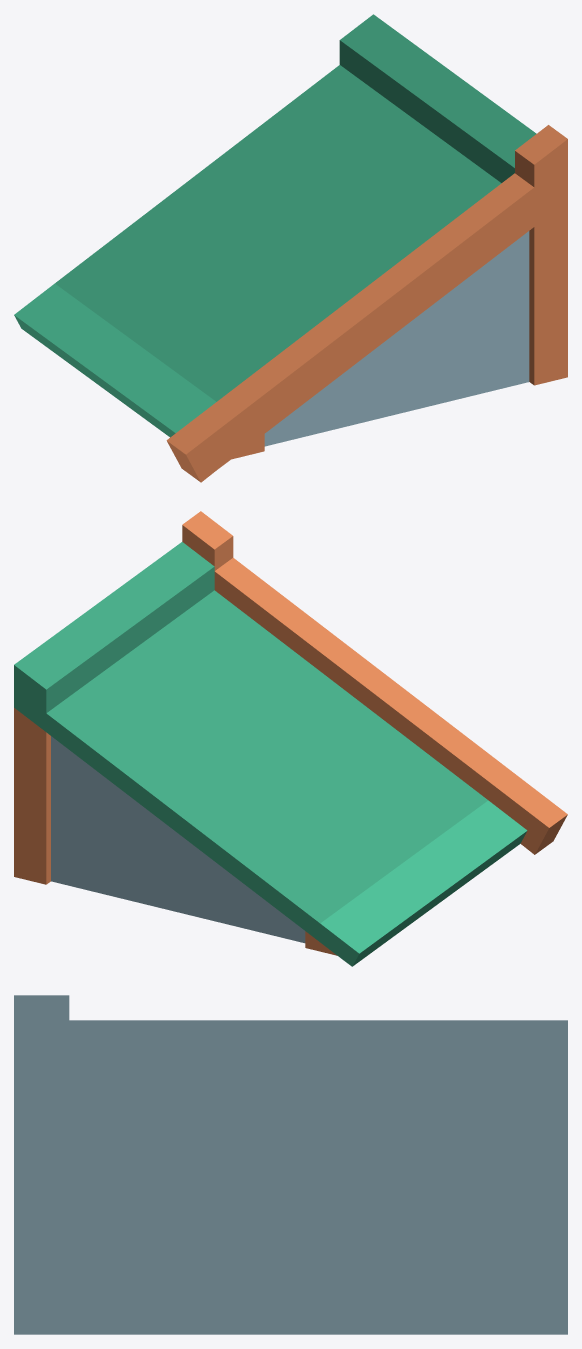
The model's file is roofRight.obj.
The picture shows the model from 3 angles, top to bottom: view 1: azimuth 30°, elevation 25°; view 2: azimuth 150°, elevation 25°; view 3: azimuth 270°, elevation 25°; orthographic projection. The views are drawn at different scales.
Parts seen in each view (by area): view 1: roofRight; view 2: roofRight; view 3: roofRight.
Boxes of the visible parts, left/top/right/bottom form: roofRight: left=14, top=14, right=567, bottom=482; roofRight: left=14, top=511, right=567, bottom=966; roofRight: left=14, top=995, right=567, bottom=1334.
Size of the model in its own units: 1.13 by 0.721 by 1.
